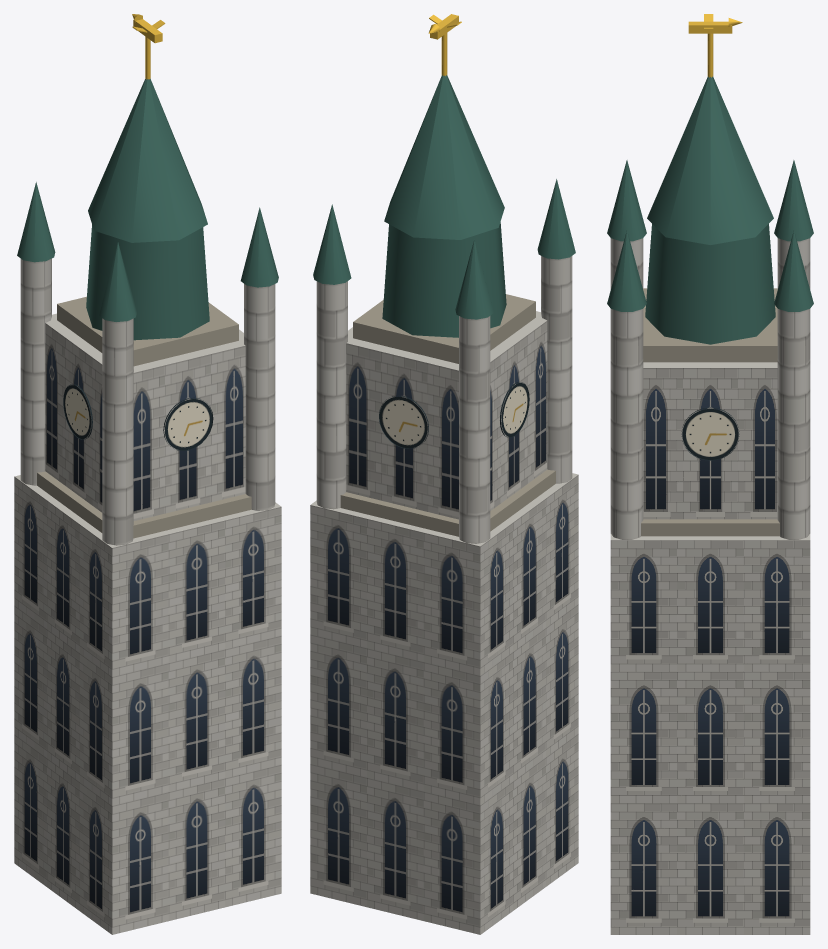
File: belfort.obj
3 renders of one model, left to right at view 1: azimuth 30°, elevation 25°; view 2: azimuth 150°, elevation 25°; view 3: azimuth 270°, elevation 25°, orthographic. The views are drawn at different scales.
Parts seen in each view (by area): view 1: part1, part2, part18, part17, part6, part10, part4, part12, part3, part15.nocast, part11, part5 (+2 smaller); view 2: part1, part2, part18, part17, part4, part8, part6, part12, part3, part16.nocast, part7, part5 (+2 smaller); view 3: part1, part2, part17, part18, part8, part10, part12, part3, part13.nocast, part9, part11, part5 (+4 smaller).
Boxes of the visible parts, <box> form: part1: <box>14,475,281,934</box>; part2: <box>45,313,245,520</box>; part18: <box>88,78,207,242</box>; part17: <box>86,225,209,340</box>; part6: <box>102,318,133,545</box>; part10: <box>244,284,275,510</box>; part4: <box>20,258,51,485</box>; part12: <box>57,296,238,366</box>; part3: <box>37,471,251,538</box>; part15.nocast: <box>163,397,213,450</box>; part11: <box>240,207,278,287</box>; part5: <box>17,182,55,262</box>; part1: <box>310,473,578,934</box>; part2: <box>346,311,547,519</box>; part18: <box>384,75,504,239</box>; part17: <box>382,222,506,337</box>; part4: <box>459,316,490,543</box>; part8: <box>316,281,347,509</box>; part6: <box>541,256,572,483</box>; part12: <box>353,294,535,363</box>; part3: <box>340,469,555,536</box>; part16.nocast: <box>379,395,428,448</box>; part7: <box>537,179,575,259</box>; part5: <box>455,239,493,319</box>; part1: <box>610,534,810,934</box>; part2: <box>643,362,777,519</box>; part17: <box>645,224,775,344</box>; part18: <box>647,76,773,244</box>; part8: <box>777,309,810,539</box>; part10: <box>610,309,643,539</box>; part12: <box>643,288,777,362</box>; part3: <box>641,519,779,536</box>; part13.nocast: <box>681,407,739,460</box>; part9: <box>774,230,813,311</box>; part11: <box>607,230,646,311</box>; part5: <box>774,160,813,241</box>.
Size of the model in its own units: 11.29 by 53.2 by 11.4.
Materials: 7 (3 with a texture image).
